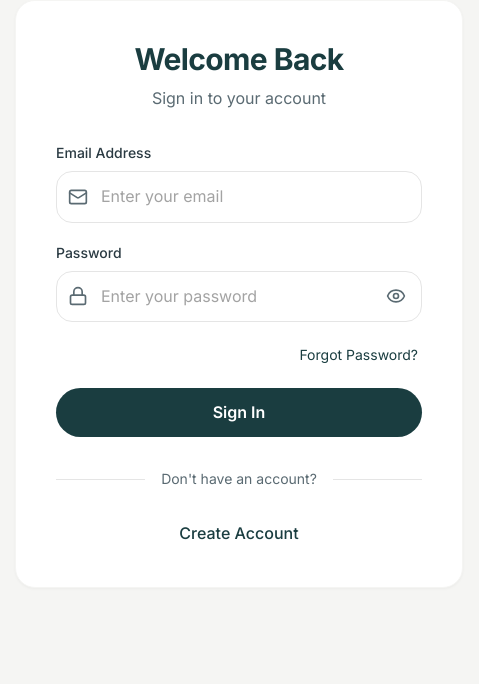
AuthForm Component › Form validation › should show error for invalid email format
Note: Use fireEvent to set values directly to bypass HTML5 validation
Type "invalid-email" into the field labelled "Email Address" at (239, 197), box [56,171,422,223]
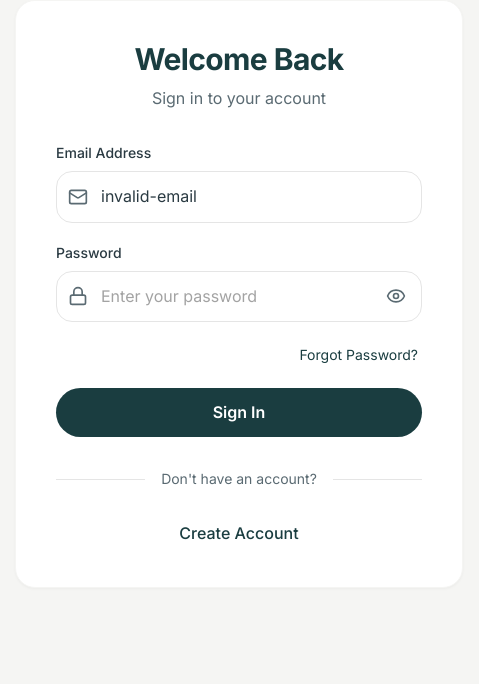
Type "password123" into the password field labelled "Password" at (239, 296), box [56,271,422,322]
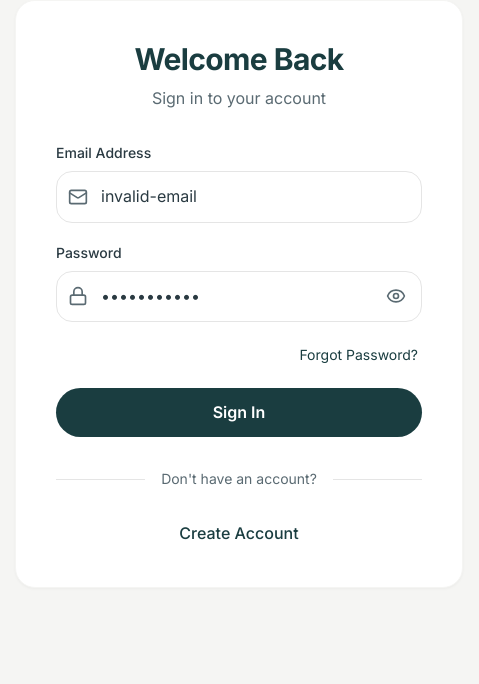
Note: Use fireEvent.submit to bypass HTML5 validation
Submit the form labelled "Email Address Password Forgot Password? Sign In", box [56,143,422,437]
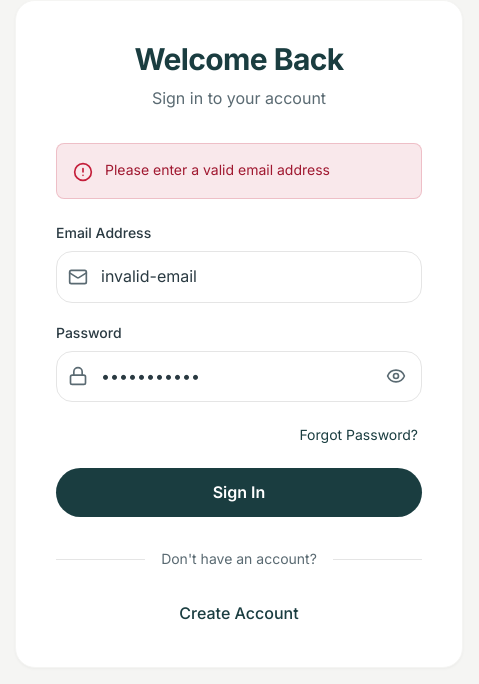
Check: the text "Please enter a valid email address" is shown, box [105,160,330,180]
